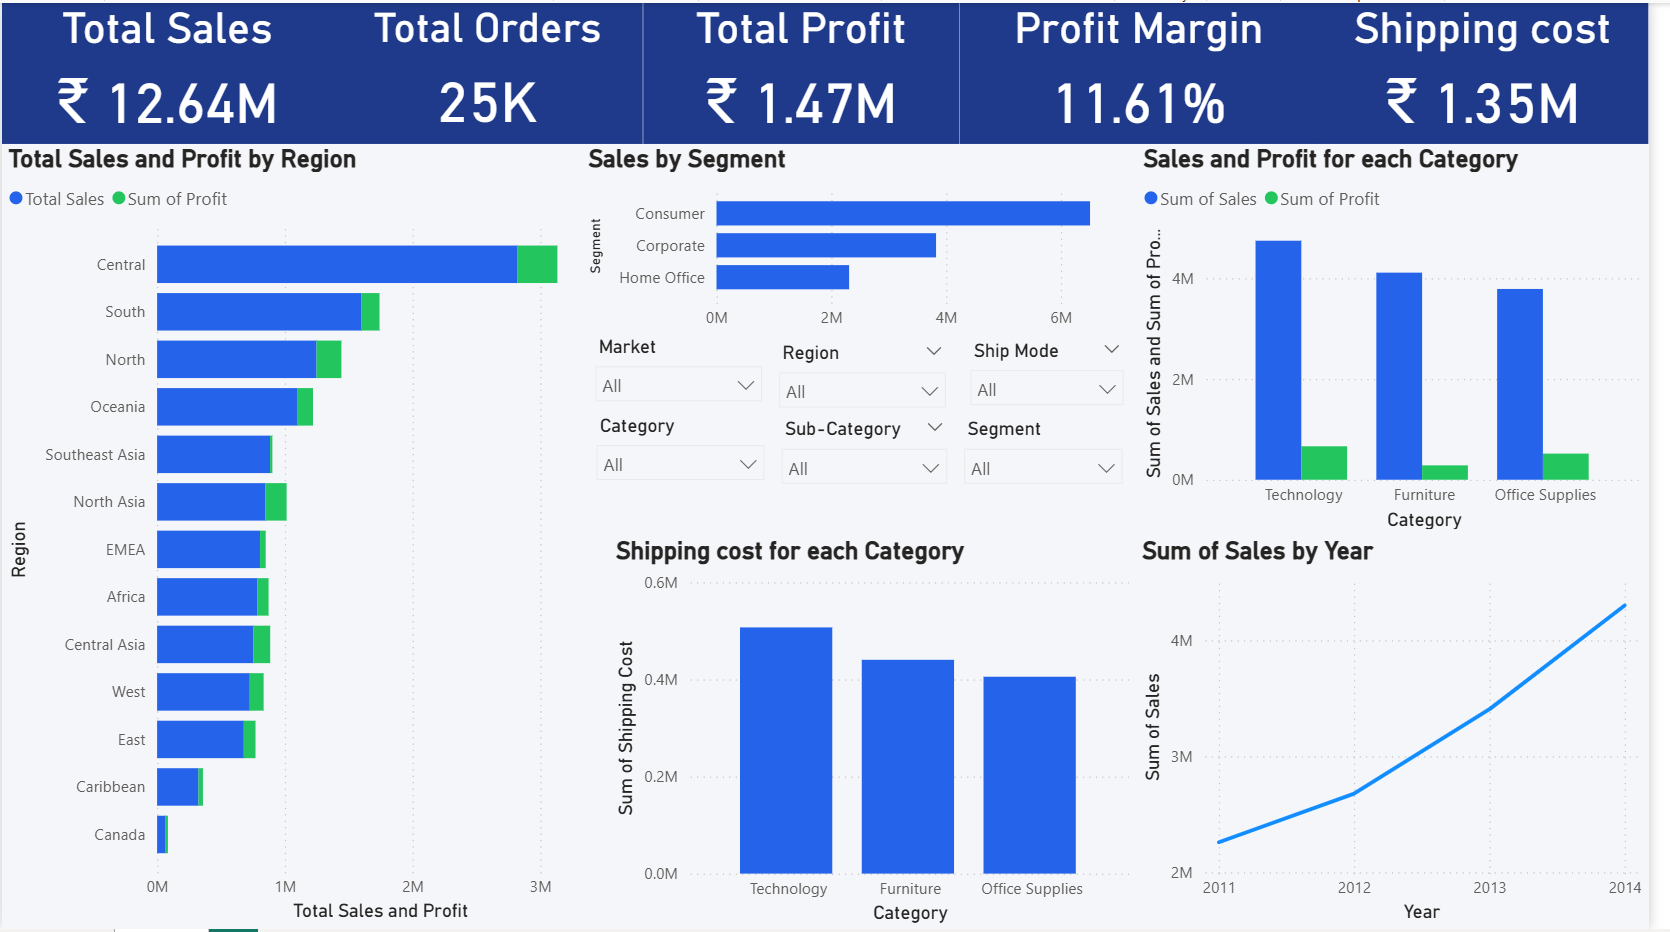

Layout of this report page (visuals, bound fields, positions):
{"tool":"powerbi","page":{"name":"Page 1","canvas":[1280,720],"ordinal":0},"visuals":[{"type":"card","title":"Total Sales","fields":{"Values":["Global_Superstore2.Total Sales"]},"box":[0,0,257,109.3],"z":0},{"type":"card","title":"Total Profit","fields":{"Values":["Global_Superstore2.Total Profit"]},"box":[498.8,0,245.3,109.3],"z":1000},{"type":"card","title":"Total Orders","fields":{"Values":["Global_Superstore2.Total Orders"]},"box":[257,0,241.9,109.3],"z":2000},{"type":"card","title":"Profit Margin","fields":{"Values":["Global_Superstore2.Profit Margin %"]},"box":[744.2,0,279.1,109.3],"z":3000},{"type":"lineChart","fields":{"Y":["Sum(Global_Superstore2.Sales)"],"Category":["Global_Superstore2.Order Date.Variation.Date Hierarchy.Year","Global_Superstore2.Order Date.Variation.Date Hierarchy.Quarter","Global_Superstore2.Order Date.Variation.Date Hierarchy.Month","Global_Superstore2.Order Date.Variation.Date Hierarchy.Day"]},"box":[881.9,414.8,398.3,304.9],"z":4000},{"type":"barChart","title":"Total Sales and  Profit by Region","fields":{"Category":["Global_Superstore2.Region"],"Y":["Global_Superstore2.Total Sales","Sum(Global_Superstore2.Profit)"]},"box":[0,110,482.4,609.2],"z":5000},{"type":"clusteredColumnChart","title":"Sales and Profit for each Category","fields":{"Category":["Global_Superstore2.Category"],"Y":["Sum(Global_Superstore2.Sales)","Sum(Global_Superstore2.Profit)"]},"box":[882.3,110,397.9,304.6],"z":6000},{"type":"barChart","title":"Sales by Segment","fields":{"Category":["Global_Superstore2.Segment"],"Y":["Sum(Global_Superstore2.Sales)"]},"box":[450.7,109.8,431.2,153],"z":7000},{"type":"columnChart","title":"Shipping cost for each Category","fields":{"Category":["Global_Superstore2.Category"],"Y":["Sum(Global_Superstore2.Shipping Cost)"]},"box":[472.3,414.8,409.6,305.9],"z":8000},{"type":"card","title":"Shipping cost","fields":{"Values":["Sum(Global_Superstore2.Shipping Cost)"]},"box":[1022.8,0,257.5,109.8],"z":9000},{"type":"slicer","fields":{"Values":["Global_Superstore2.Market"]},"box":[451.2,253.5,150,67.4],"z":10000},{"type":"slicer","fields":{"Values":["Global_Superstore2.Category"]},"box":[451.7,315.2,150.9,70.8],"z":11000},{"type":"slicer","fields":{"Values":["Global_Superstore2.Region"]},"box":[594.2,258.1,150,68.6],"z":12000},{"type":"slicer","fields":{"Values":["Global_Superstore2.Segment"]},"box":[738.1,318.3,143.7,67.8],"z":13000},{"type":"slicer","fields":{"Values":["Global_Superstore2.Ship Mode"]},"box":[743,257,139.5,67.4],"z":14000},{"type":"slicer","fields":{"Values":["Global_Superstore2.Sub-Category"]},"box":[595.4,318.3,148.9,67.8],"z":15000}]}

Visuals, with their boxes in screenshot pixels (x1, y1, x2, y2), scaled from the page's 1280x720 canvas onto the 1670x932 screenshot:
"Total Sales" card: <region>0, 0, 335, 141</region>
"Total Profit" card: <region>651, 0, 971, 141</region>
"Total Orders" card: <region>335, 0, 651, 141</region>
"Profit Margin" card: <region>971, 0, 1335, 141</region>
lineChart - Sum(Global_Superstore2.Sales) x Global_Superstore2.Order Date.Variation.Date Hierarchy.Year: <region>1151, 537, 1669, 931</region>
"Total Sales and  Profit by Region" barChart: <region>0, 142, 629, 931</region>
"Sales and Profit for each Category" clusteredColumnChart: <region>1151, 142, 1669, 537</region>
"Sales by Segment" barChart: <region>588, 142, 1151, 340</region>
"Shipping cost for each Category" columnChart: <region>616, 537, 1151, 931</region>
"Shipping cost" card: <region>1334, 0, 1669, 142</region>
slicer - Global_Superstore2.Market: <region>589, 328, 784, 415</region>
slicer - Global_Superstore2.Category: <region>589, 408, 786, 500</region>
slicer - Global_Superstore2.Region: <region>775, 334, 971, 423</region>
slicer - Global_Superstore2.Segment: <region>963, 412, 1150, 500</region>
slicer - Global_Superstore2.Ship Mode: <region>969, 333, 1151, 420</region>
slicer - Global_Superstore2.Sub-Category: <region>777, 412, 971, 500</region>
